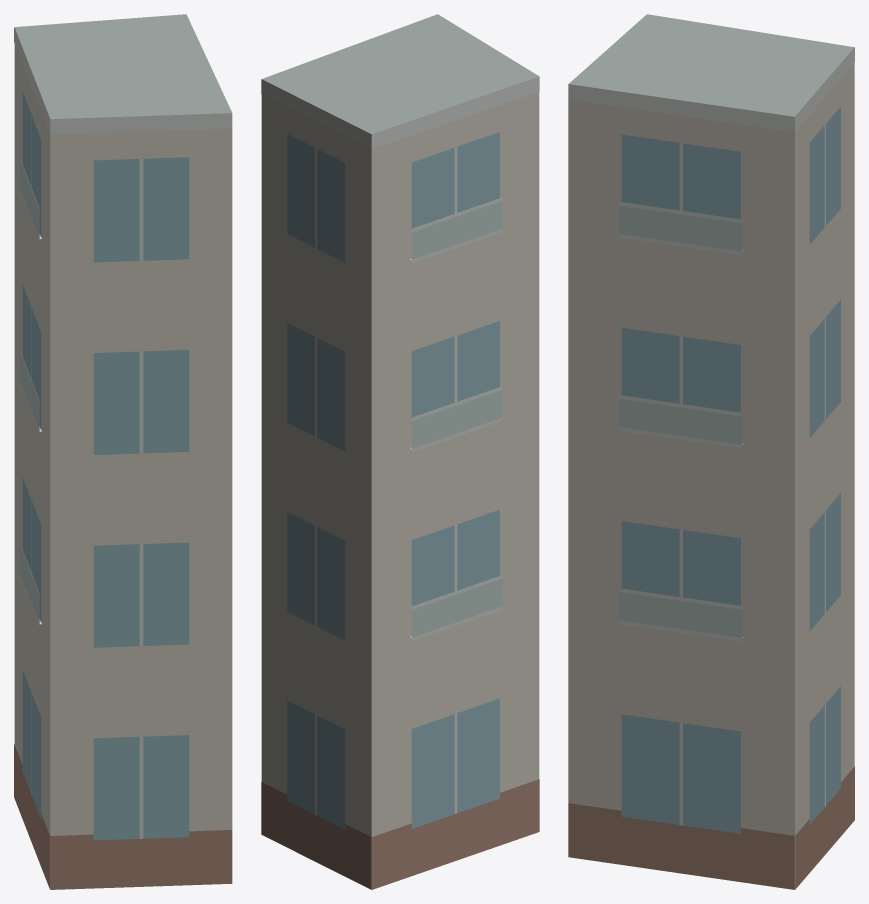
File: survey-upis-32839069.glb
3 renders of one model, left to right at view 1: azimuth 30°, elevation 25°; view 2: azimuth 150°, elevation 25°; view 3: azimuth 270°, elevation 25°, orthographic. The views are drawn at different scales.
Parts seen in each view (by area): view 1: survey-upis-32839069.tmp; view 2: survey-upis-32839069.tmp; view 3: survey-upis-32839069.tmp.
Part boxes in pixels (box(x1,y1,x2,y2)): survey-upis-32839069.tmp: box(14, 14, 232, 889); survey-upis-32839069.tmp: box(261, 14, 539, 889); survey-upis-32839069.tmp: box(568, 14, 854, 889).
Bounding box in the file's own units: 3.49 × 12.2 × 4.1.
